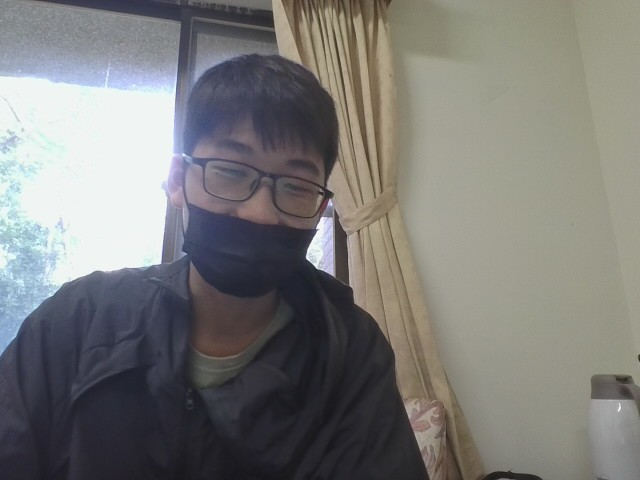No_Helmet: (168, 48, 345, 235)
person: (0, 35, 483, 479)
